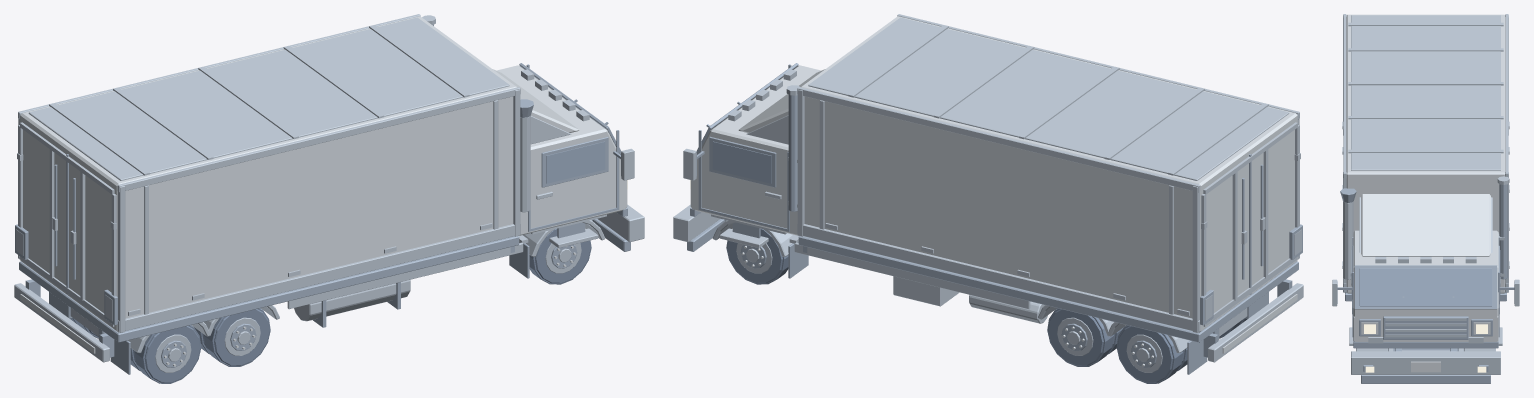
File: truck.glb
The picture shows the model from 3 angles, left to right: view 1: azimuth 30°, elevation 25°; view 2: azimuth 150°, elevation 25°; view 3: azimuth 270°, elevation 25°; orthographic projection. The views are drawn at different scales.
Parts seen in each view (by area): view 1: TK_Body, TK_Cab, TK_Chassis, TK_Wheel_RA_L, TK_Wheel_RB_L, TK_Wheel_F_L, TK_Fenders; view 2: TK_Body, TK_Cab, TK_Chassis, TK_Wheel_RA_R, TK_Wheel_RB_R, TK_Wheel_F_R, TK_Fenders; view 3: TK_Body, TK_Cab, TK_Chassis, TK_Fenders, TK_Headlight_L, TK_Headlight_R.
Boxes of the visible parts, x1,y1,x2,y2 form: TK_Body: (15, 14, 520, 342); TK_Cab: (422, 15, 644, 251); TK_Chassis: (14, 220, 592, 374); TK_Wheel_RA_L: (194, 308, 270, 366); TK_Wheel_RB_L: (130, 325, 201, 383); TK_Wheel_F_L: (529, 228, 591, 284); TK_Fenders: (128, 214, 606, 352); TK_Body: (797, 14, 1302, 342); TK_Cab: (673, 63, 825, 251); TK_Chassis: (725, 220, 1303, 374); TK_Wheel_RA_R: (1047, 308, 1123, 366); TK_Wheel_RB_R: (1116, 325, 1187, 383); TK_Wheel_F_R: (726, 228, 788, 284); TK_Fenders: (711, 214, 1189, 352); TK_Body: (1342, 14, 1509, 301); TK_Cab: (1332, 176, 1519, 383); TK_Chassis: (1352, 301, 1499, 351); TK_Fenders: (1356, 348, 1495, 351); TK_Headlight_L: (1364, 324, 1375, 372); TK_Headlight_R: (1476, 324, 1487, 372).
Bounding box in the file's own units: 10.24 × 4 × 3.74.
